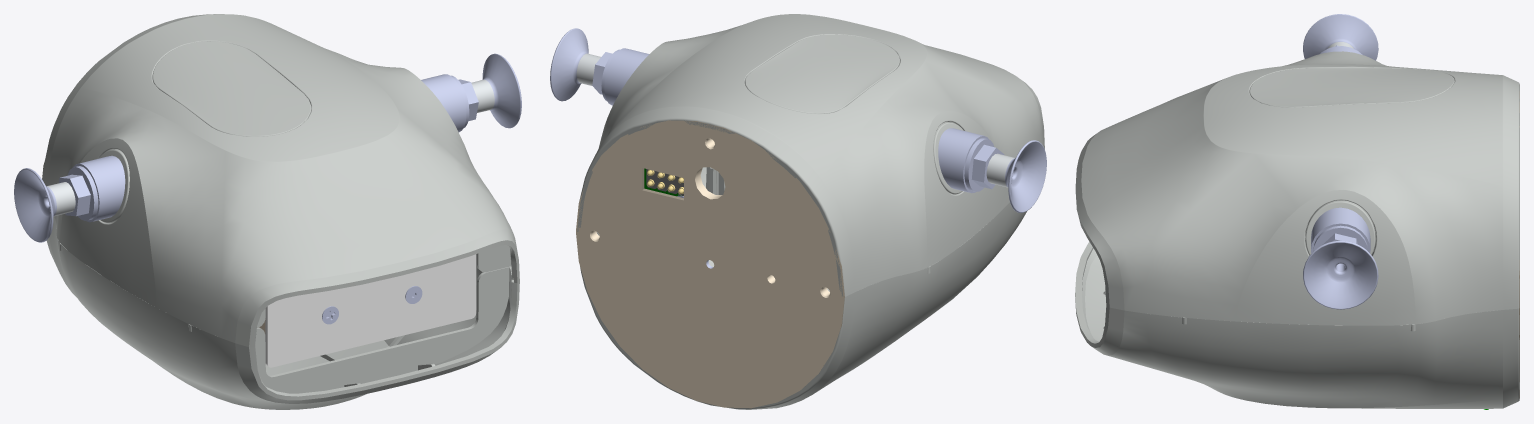
File: gripperRight.dae
3 renders of one model, left to right at view 1: azimuth 30°, elevation 25°; view 2: azimuth 150°, elevation 25°; view 3: azimuth 270°, elevation 25°, orthographic. The views are drawn at different scales.
Parts seen in each view (by area): view 1: Node_0x37468c0, Node_0x3746d60, Node_0x3747b40, Node_0x374a980, Node_0x3749700, Node_0x3747200, Node_0x374ae20, Node_0x3749ba0, Node_0x3744d00; view 2: Node_0x37468c0, Node_0x3748dc0, Node_0x3746d60, Node_0x374a980, Node_0x3749700, Node_0x374ae20, Node_0x3749ba0; view 3: Node_0x37468c0, Node_0x3746d60, Node_0x3749700, Node_0x374a980.
Part boxes in pixels (x1,y1,x2,y2): Node_0x37468c0: (42, 14, 519, 347); Node_0x3746d60: (46, 149, 519, 409); Node_0x3747b40: (265, 254, 476, 367); Node_0x374a980: (14, 155, 125, 242); Node_0x3749700: (421, 53, 521, 132); Node_0x3747200: (60, 244, 513, 400); Node_0x374ae20: (47, 182, 75, 216); Node_0x3749ba0: (471, 79, 494, 112); Node_0x3744d00: (322, 286, 422, 324); Node_0x37468c0: (577, 14, 1044, 296); Node_0x3748dc0: (576, 120, 844, 408); Node_0x3746d60: (580, 121, 1026, 409); Node_0x374a980: (938, 128, 1046, 212); Node_0x3749700: (550, 28, 649, 105); Node_0x374ae20: (986, 153, 1014, 187); Node_0x3749ba0: (576, 53, 600, 85); Node_0x37468c0: (1075, 51, 1519, 325); Node_0x3746d60: (1075, 200, 1519, 408); Node_0x3749700: (1303, 207, 1378, 309); Node_0x374a980: (1303, 14, 1378, 60).
Bounding box in the file's own units: 0.1129 × 0.069 × 0.0931.
